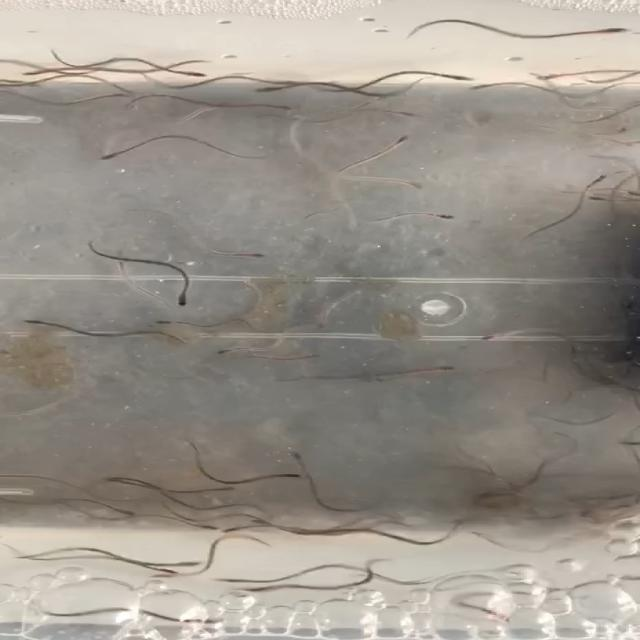active_glass_eel: (423, 208, 471, 232), (386, 170, 432, 194), (186, 345, 244, 364), (19, 308, 58, 334), (247, 244, 287, 268), (534, 68, 572, 91), (466, 329, 522, 344), (93, 148, 131, 170), (154, 312, 192, 332), (432, 68, 473, 85), (161, 292, 200, 309), (598, 22, 628, 43), (212, 483, 245, 502), (272, 445, 308, 462), (245, 84, 281, 100), (377, 133, 420, 146), (390, 108, 432, 121), (283, 471, 316, 487), (435, 361, 466, 377), (464, 84, 494, 100), (161, 564, 187, 582), (268, 105, 297, 121), (587, 170, 611, 188), (120, 508, 144, 526), (188, 72, 222, 84), (166, 558, 202, 568), (101, 89, 140, 98), (21, 67, 44, 81), (298, 348, 318, 361)
